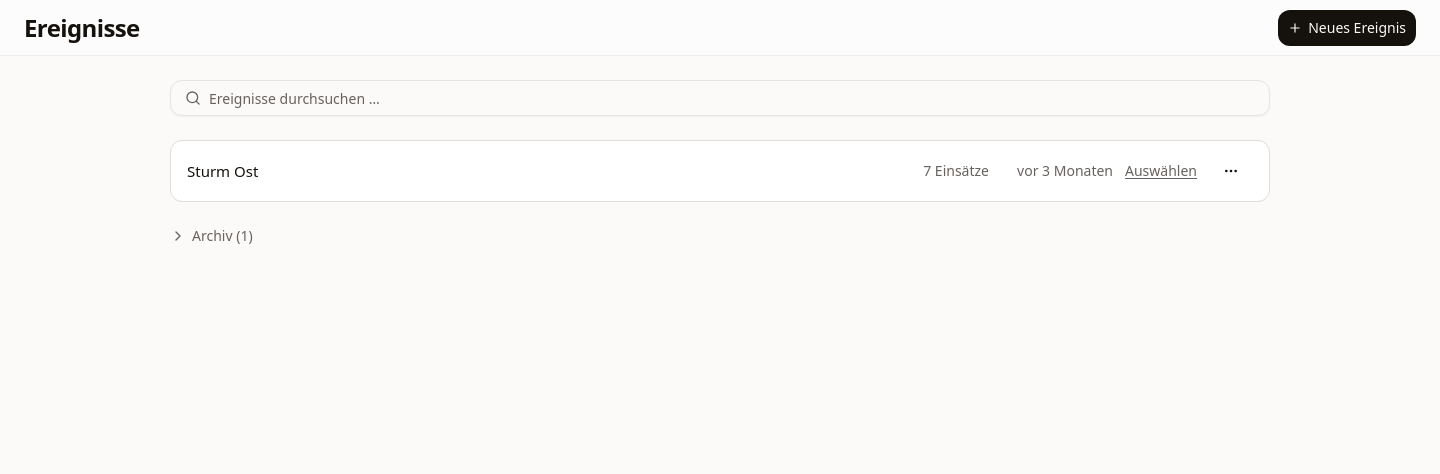
Scenario: Ereignisse — Archivieren/Löschen bestätigen › bietet einem Editor auf einem archivierten Ereignis kein Löschen an (nur Admin)
Step 1. Click the button "Archiv (1)" → click(211, 236), box [170, 226, 253, 246]
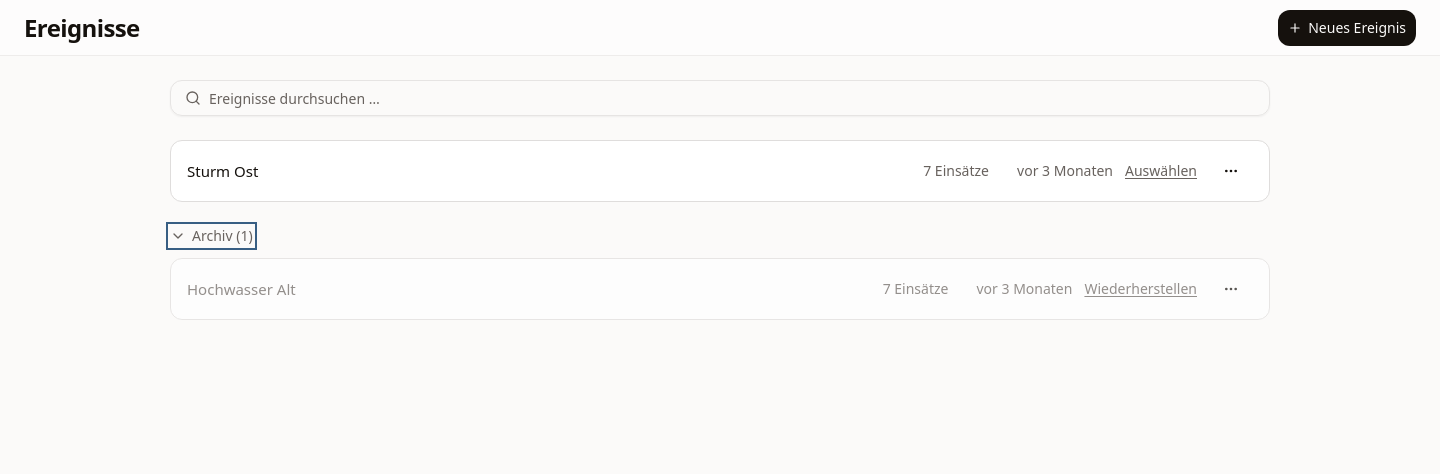
Step 2. Click the button named "Aktionen" in the row of "Hochwasser Alt" → click(1231, 289), box [1209, 267, 1253, 311]
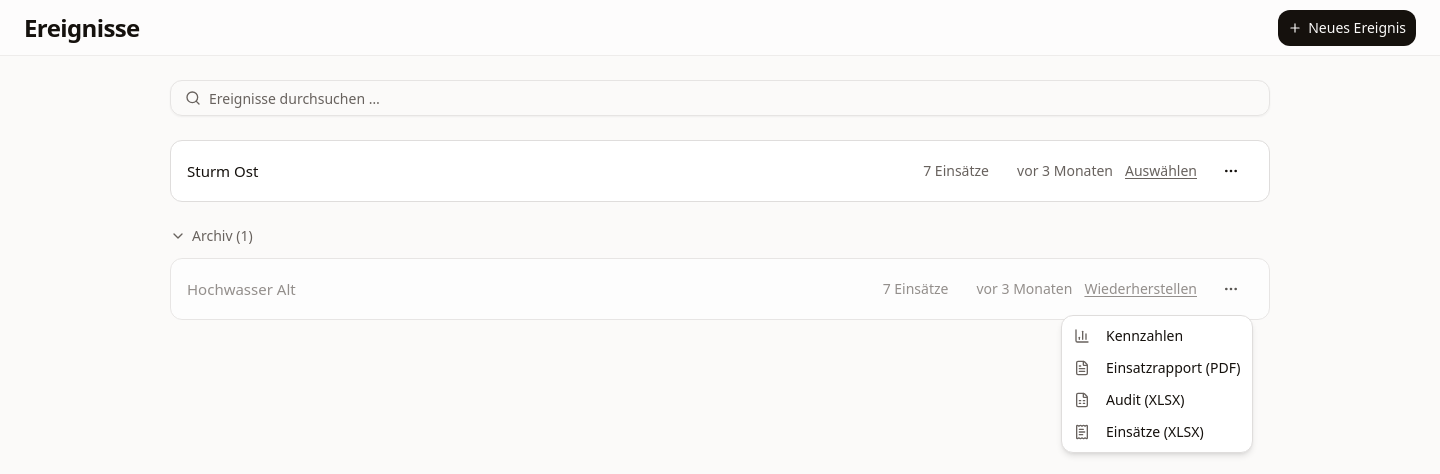
Result: the menu item "Einsatzrapport (PDF)" is shown at [1074, 358, 1240, 377]
